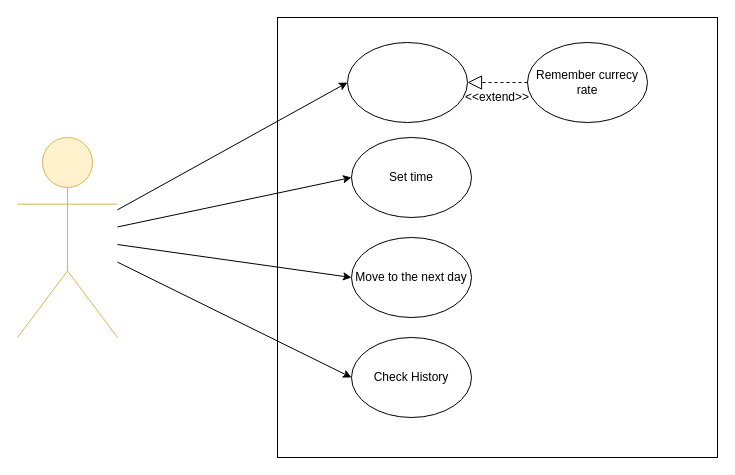
Some shapes in this 735 by 475 pixel diagram are drawn without their labels. Each missing label, with the centre of its shape:
Set new Currency rate: the point at 407,82
Сashier: the point at 67,237
